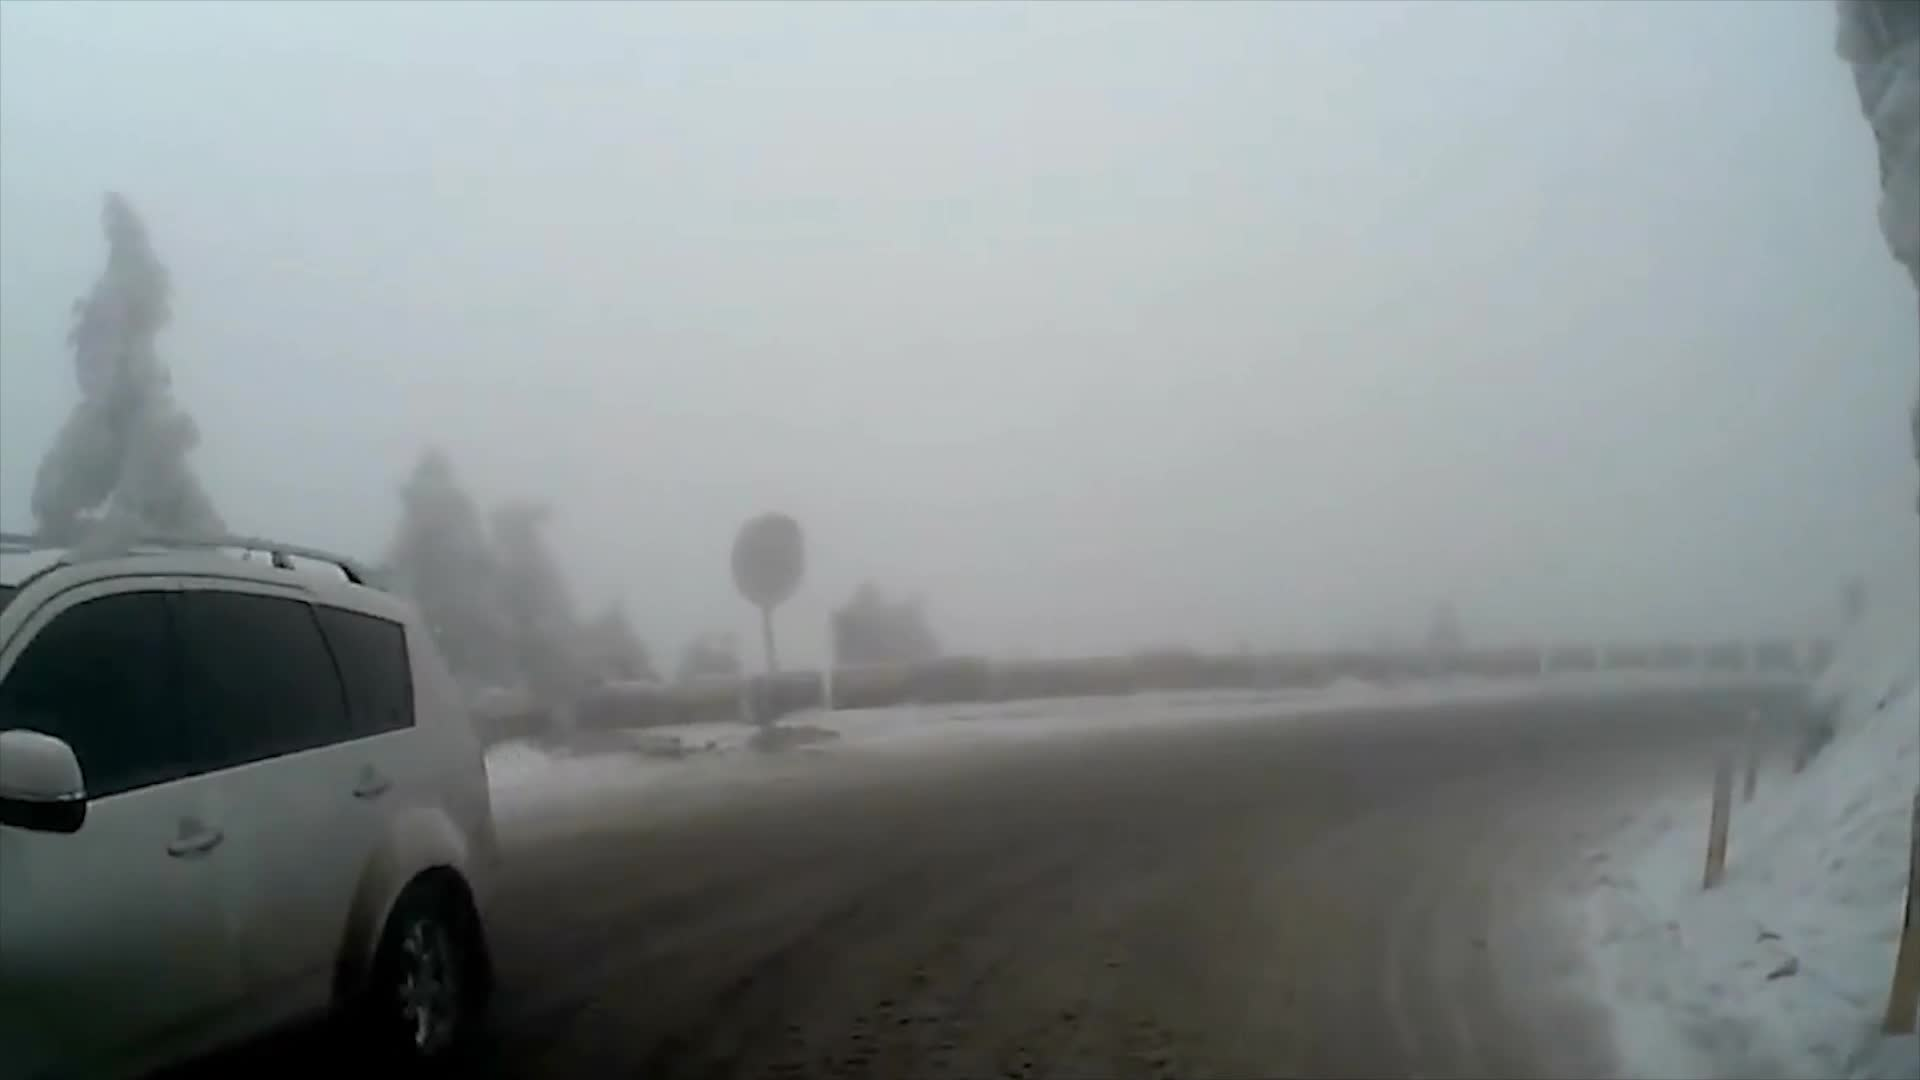vehicle: (0, 526, 498, 1080)
